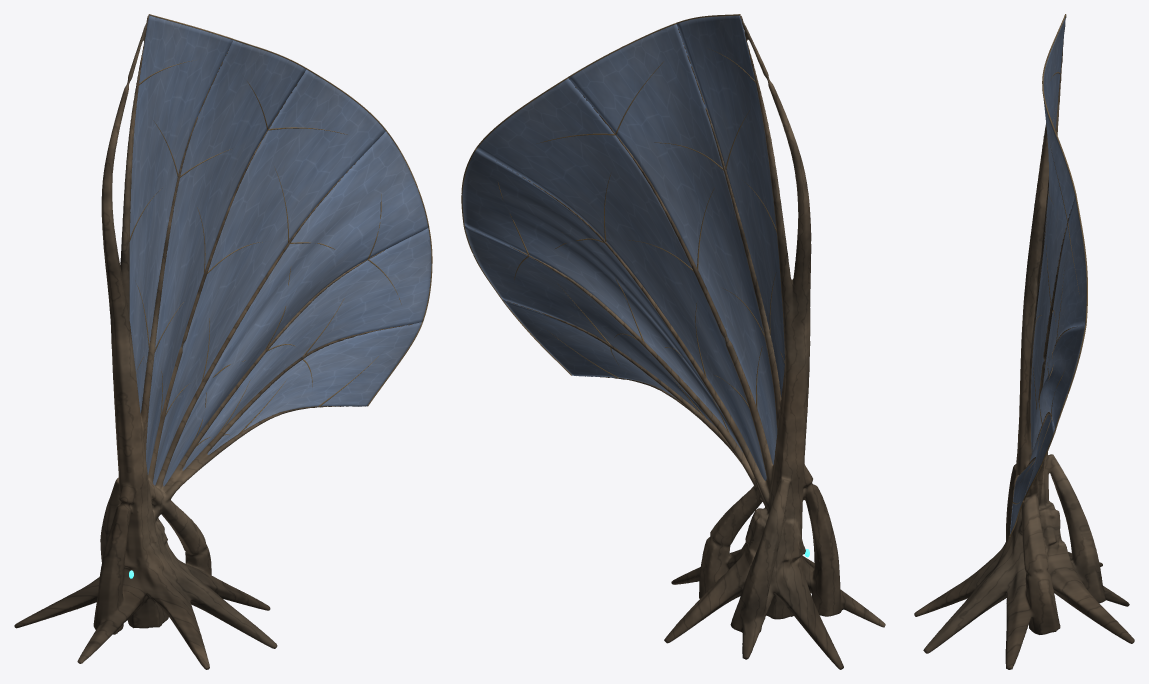
File: sails.glb
3 views of the same model, side by side, from view 1: azimuth 30°, elevation 25°; view 2: azimuth 150°, elevation 25°; view 3: azimuth 270°, elevation 25° (orthographic). The views are drawn at different scales.
Parts seen in each view (by area): view 1: SM_Sail_TensionedThinBays, SM_Sail_FusedRootAndCurvedSpars, SM_Sail_BranchingFineFibres; view 2: SM_Sail_TensionedThinBays, SM_Sail_FusedRootAndCurvedSpars, SM_Sail_BranchingFineFibres; view 3: SM_Sail_FusedRootAndCurvedSpars, SM_Sail_TensionedThinBays, SM_Sail_BranchingFineFibres.
Part boxes in pixels (x1=…): SM_Sail_TensionedThinBays: x1=129, y1=15, x2=431, y2=486; SM_Sail_FusedRootAndCurvedSpars: x1=14, y1=15, x2=419, y2=669; SM_Sail_BranchingFineFibres: x1=129, y1=14, x2=432, y2=446; SM_Sail_TensionedThinBays: x1=462, y1=15, x2=784, y2=480; SM_Sail_FusedRootAndCurvedSpars: x1=474, y1=15, x2=885, y2=669; SM_Sail_BranchingFineFibres: x1=461, y1=14, x2=784, y2=433; SM_Sail_FusedRootAndCurvedSpars: x1=914, y1=15, x2=1134, y2=669; SM_Sail_TensionedThinBays: x1=1010, y1=17, x2=1086, y2=533; SM_Sail_BranchingFineFibres: x1=1009, y1=14, x2=1087, y2=536.
Bounding box in the file's own units: 5.49 × 7.99 × 2.61.
4 materials, 3 textured.
